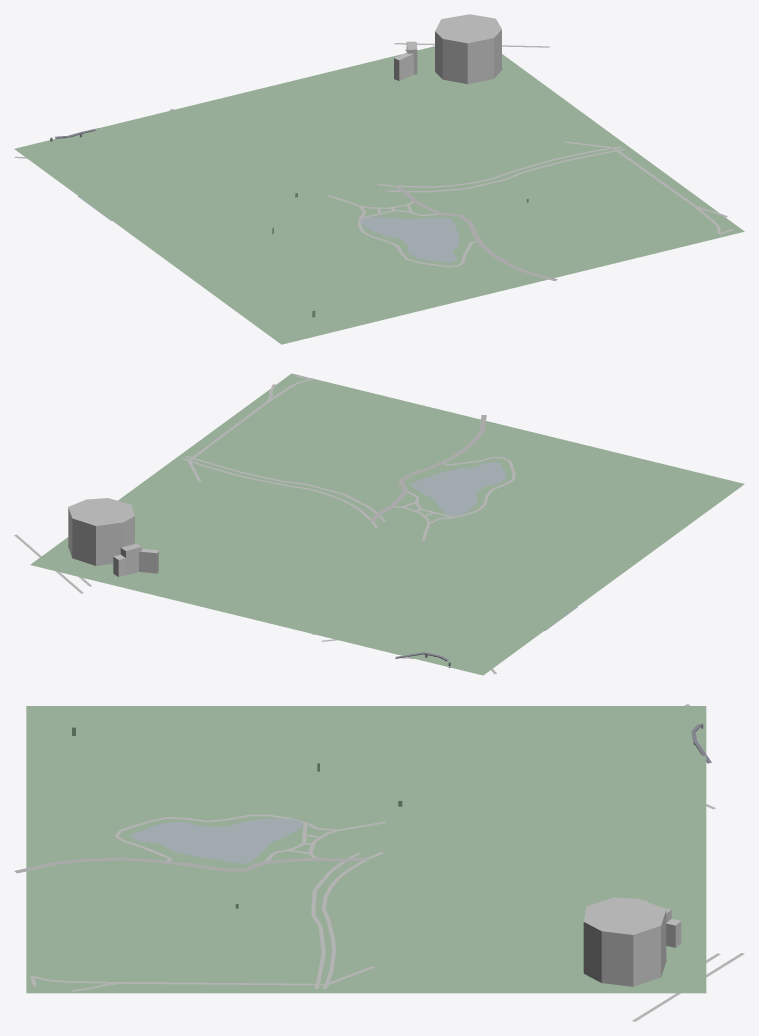
3 views of the same model, one above another, from view 1: azimuth 30°, elevation 25°; view 2: azimuth 150°, elevation 25°; view 3: azimuth 270°, elevation 25° (orthographic). The views are drawn at different scales.
Size of the model in its own units: 555 by 44.9 by 537.
